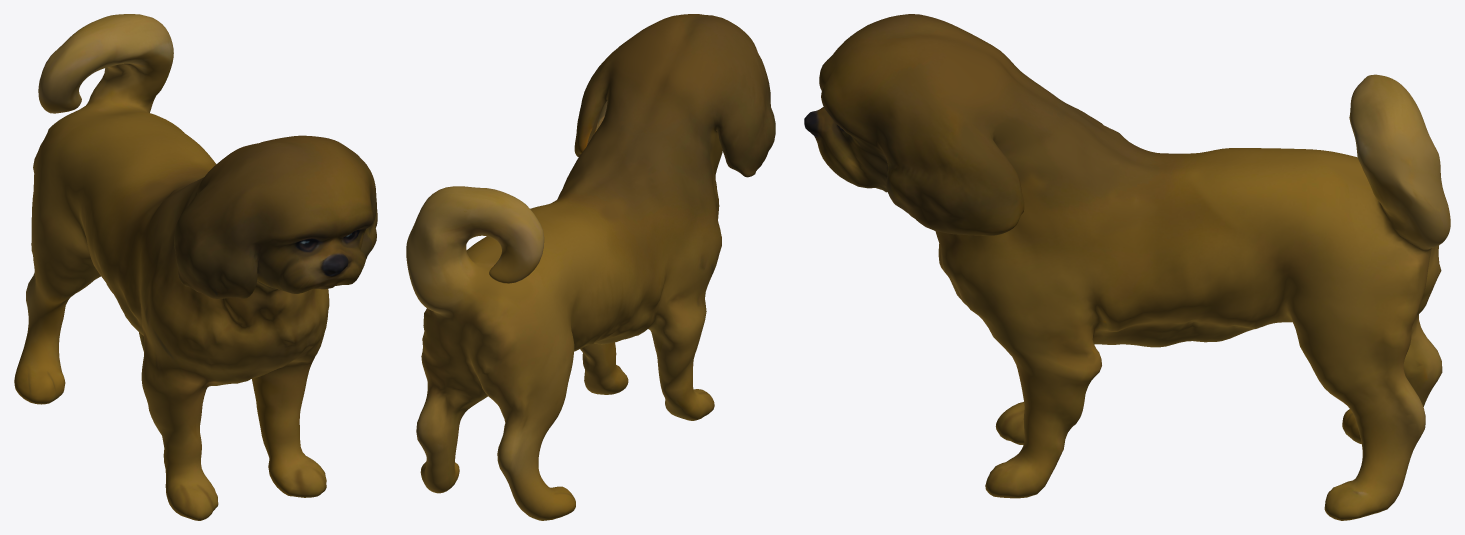
Rendered from Болонка.gltf.
3 views of the same model, side by side, from view 1: azimuth 30°, elevation 25°; view 2: azimuth 150°, elevation 25°; view 3: azimuth 270°, elevation 25° (orthographic). The views are drawn at different scales.
Parts seen in each view (by area): view 1: tripo_node_d9fd087a_1; view 2: tripo_node_d9fd087a_1; view 3: tripo_node_d9fd087a_1.
Boxes of the visible parts, left/top/right/bottom form: tripo_node_d9fd087a_1: left=14, top=14, right=377, bottom=520; tripo_node_d9fd087a_1: left=406, top=14, right=775, bottom=520; tripo_node_d9fd087a_1: left=804, top=14, right=1450, bottom=520.
Bounding box in the file's own units: 41.86 × 76.97 × 102.
1 material, 1 textured.
